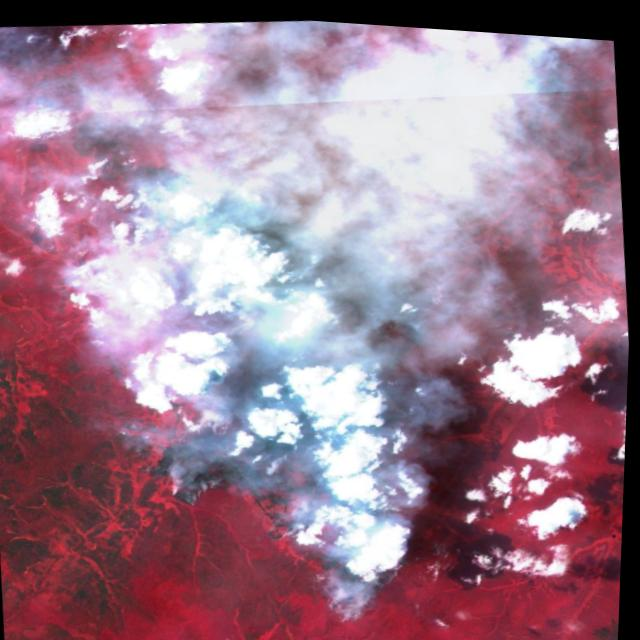fire: (102, 176, 475, 640)
